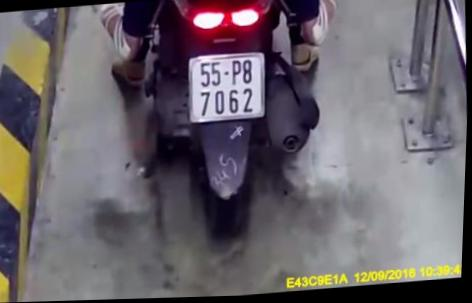LP: (185, 50, 269, 126)
